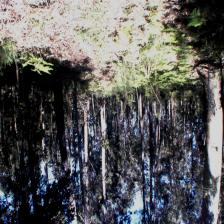trunktrack_idkeyframe: (53, 84, 68, 158)
